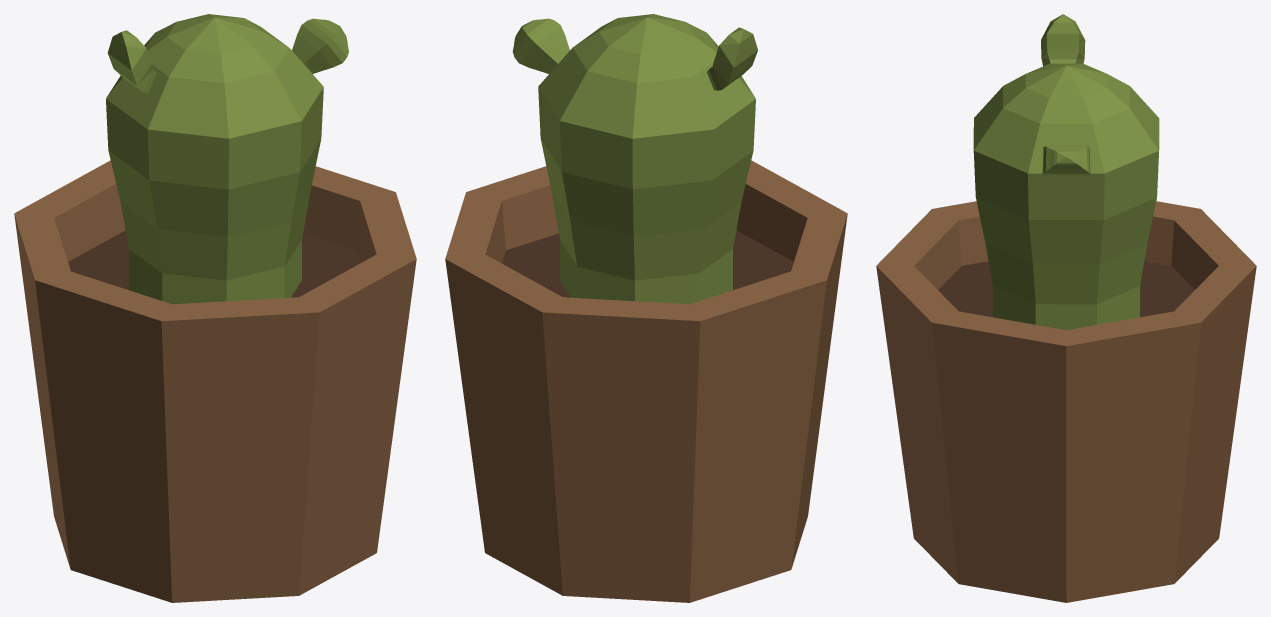
The model's file is Cactus_02.fbx.
3 renders of one model, left to right at view 1: azimuth 30°, elevation 25°; view 2: azimuth 150°, elevation 25°; view 3: azimuth 270°, elevation 25°, orthographic. The views are drawn at different scales.
Visible parts, largest first — view 1: Cactus_02; view 2: Cactus_02; view 3: Cactus_02.
Boxes of the visible parts, x1,y1,x2,y2 form: Cactus_02: [14, 14, 416, 602]; Cactus_02: [445, 14, 847, 602]; Cactus_02: [876, 14, 1256, 602].
Bounding box in the file's own units: 21.69 × 30.3 × 21.69.
